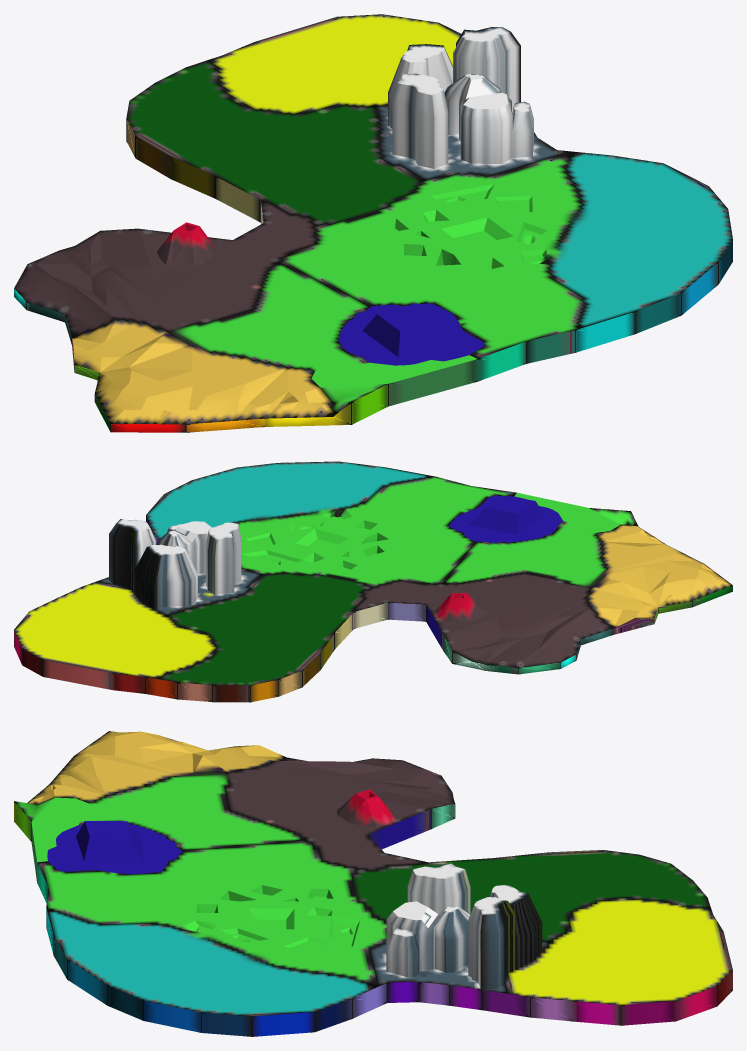
The model's file is mapV4.fbx.
3 views of the same model, one above another, from view 1: azimuth 30°, elevation 25°; view 2: azimuth 150°, elevation 25°; view 3: azimuth 270°, elevation 25° (orthographic). The views are drawn at different scales.
Visible parts, largest first — view 1: Plane; view 2: Plane; view 3: Plane.
Boxes of the visible parts, x1=… form: Plane: x1=14, y1=14, x2=732, y2=432; Plane: x1=14, y1=461, x2=732, y2=702; Plane: x1=14, y1=731, x2=732, y2=1036.
Bounding box in the file's own units: 31302 × 4445 × 31889.
1 material, 1 textured.
